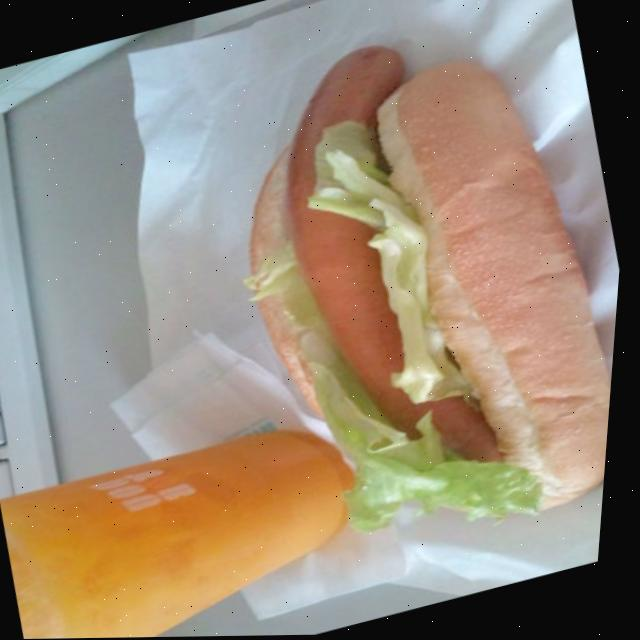汉堡快餐: (178, 0, 640, 598)
